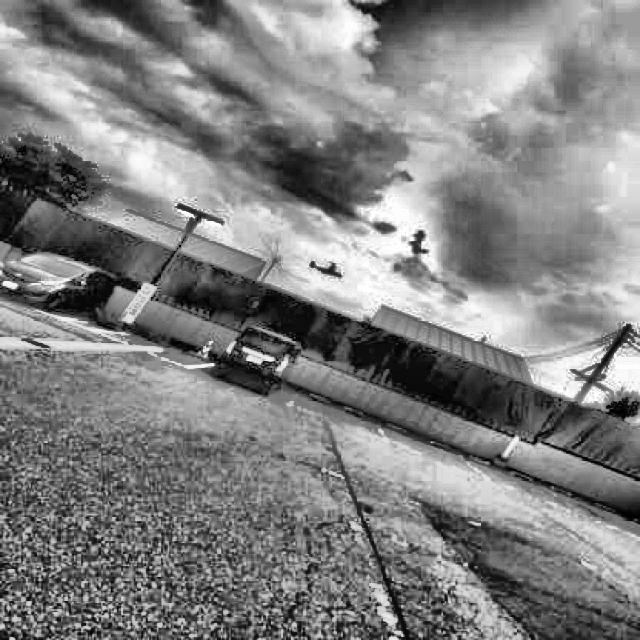V22: (310, 259, 342, 278)
